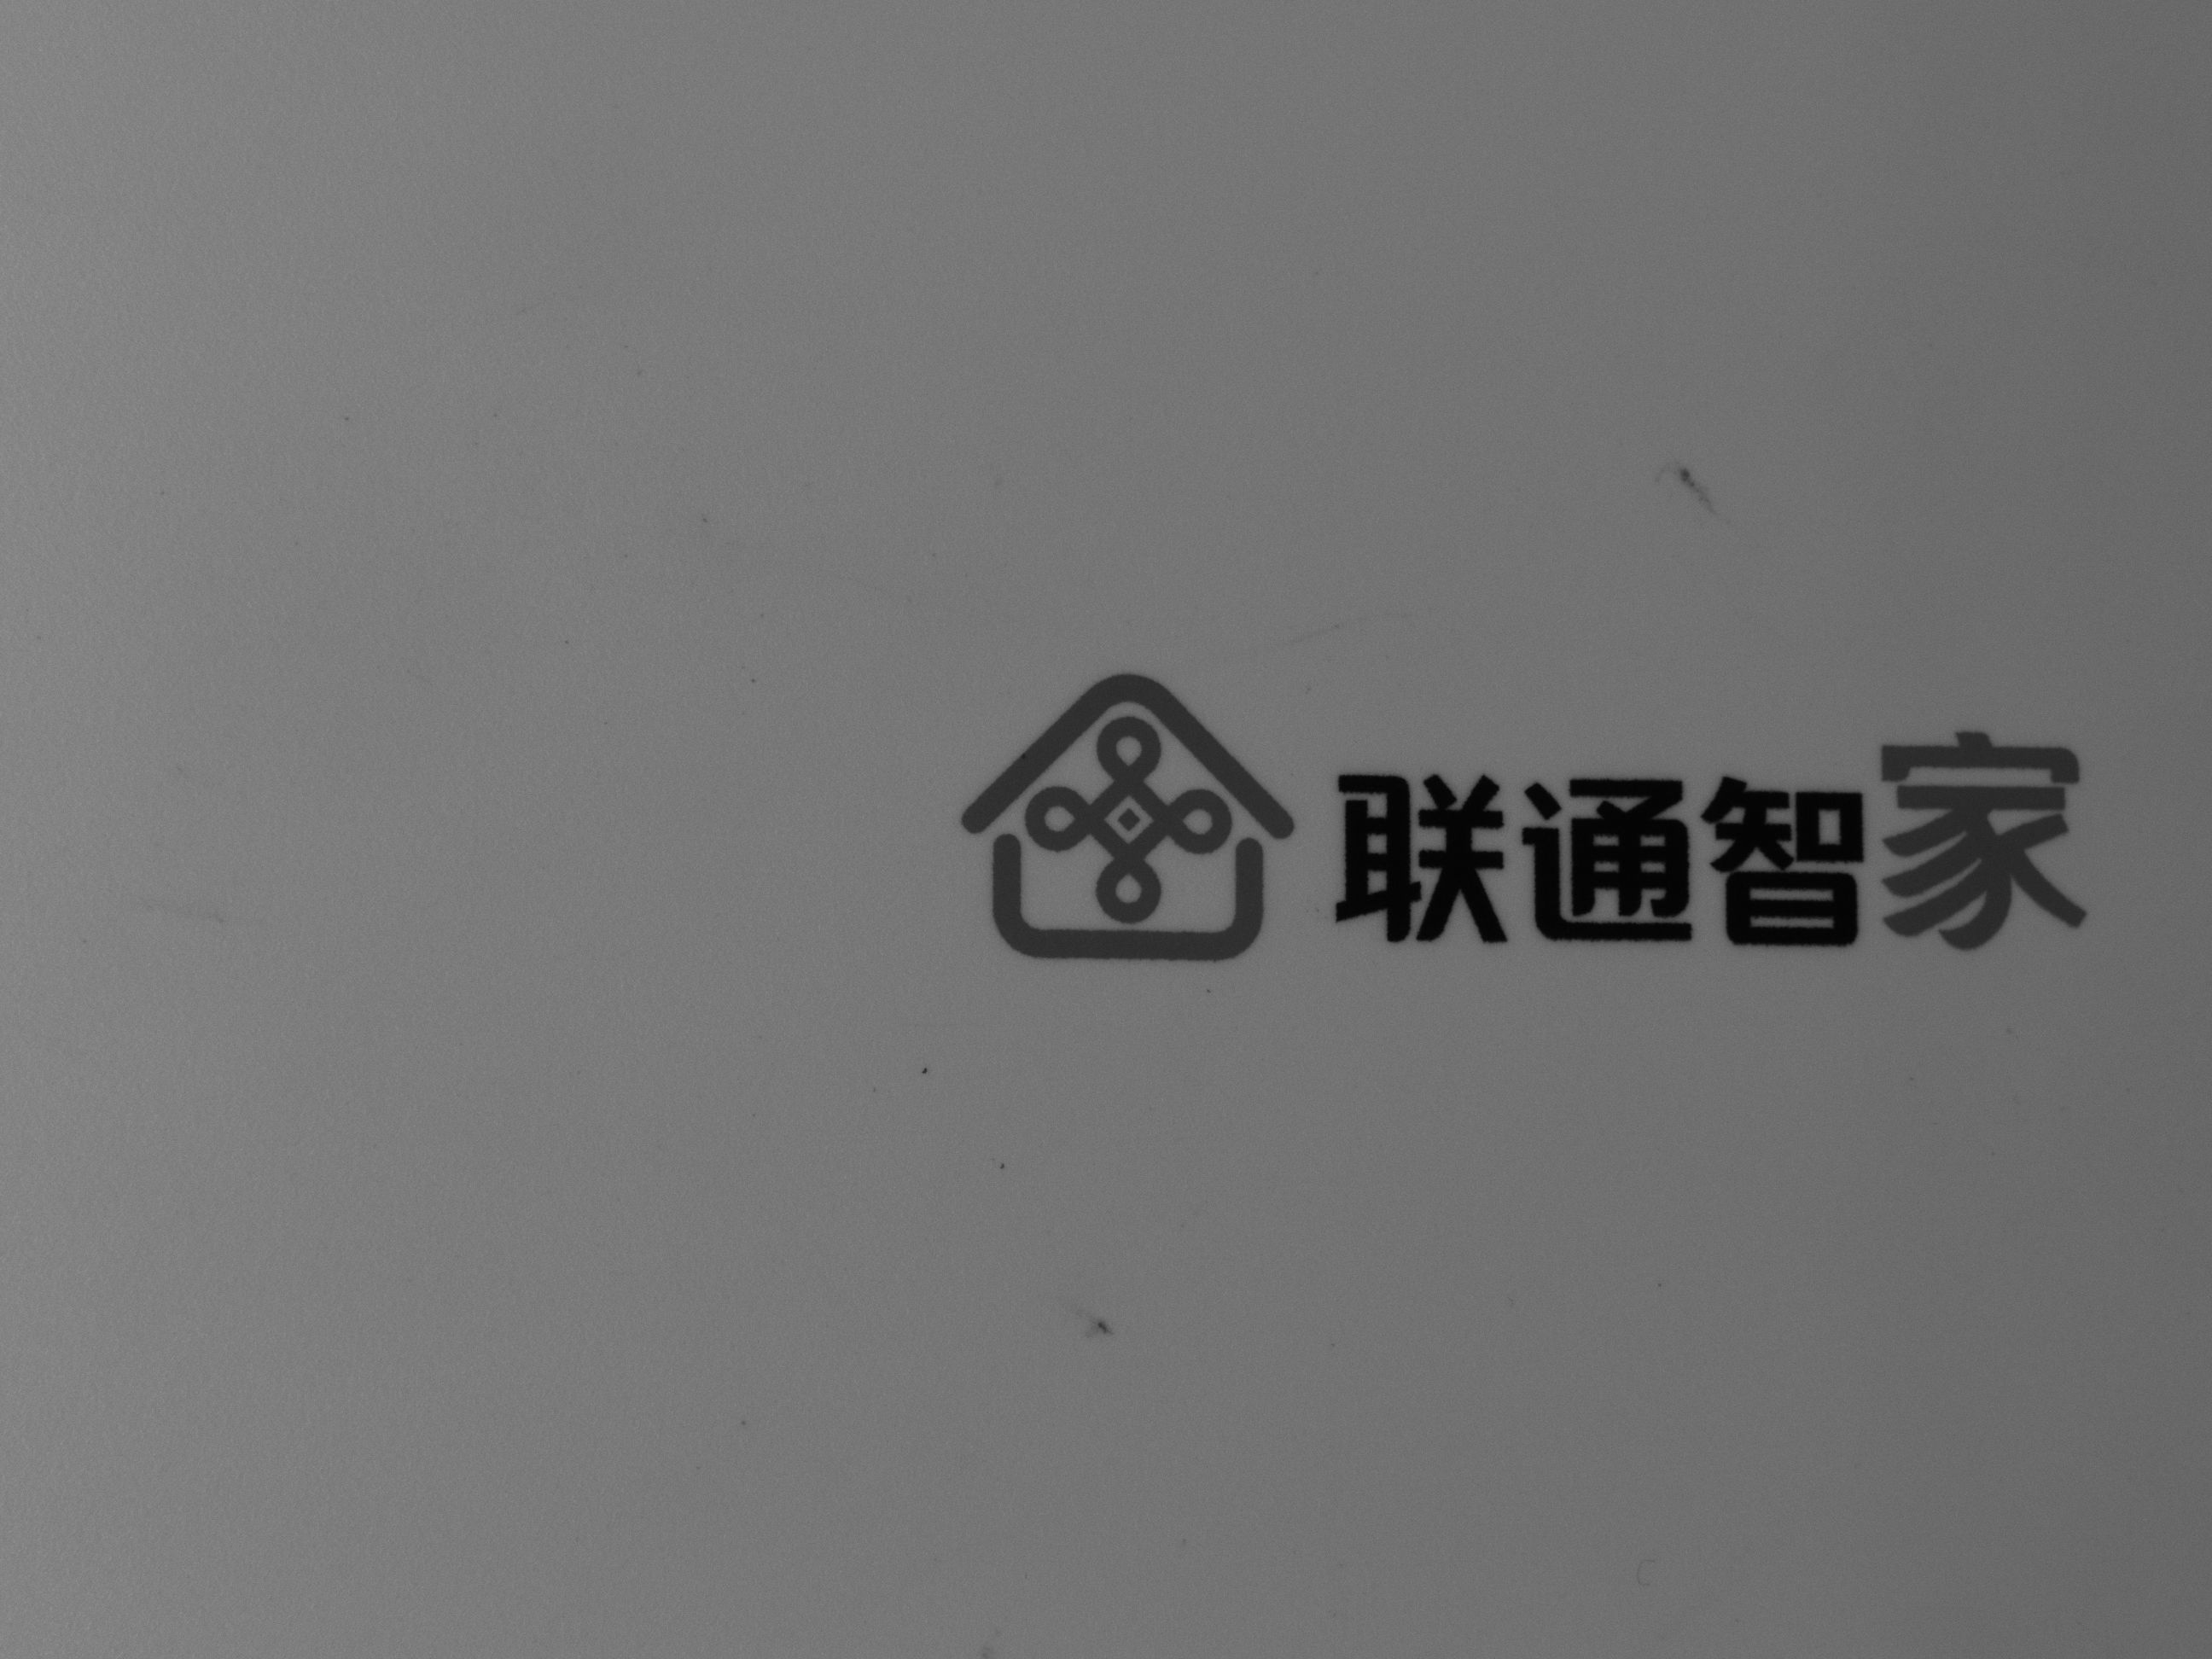BY_F6610Unicome: (897, 652, 2111, 985)
